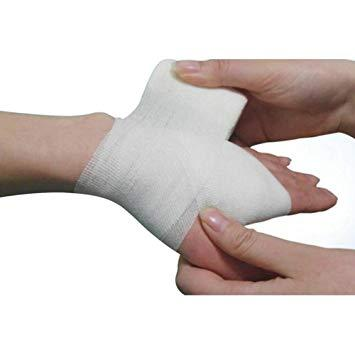gauze: (71, 41, 291, 289)
